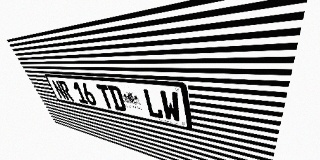1: (71, 82, 89, 104)
6: (79, 83, 98, 106)
D: (107, 85, 127, 112)
L: (142, 89, 164, 119)
N: (51, 80, 67, 100)
R: (58, 81, 74, 101)
T: (96, 84, 115, 110)
W: (159, 90, 182, 123)
